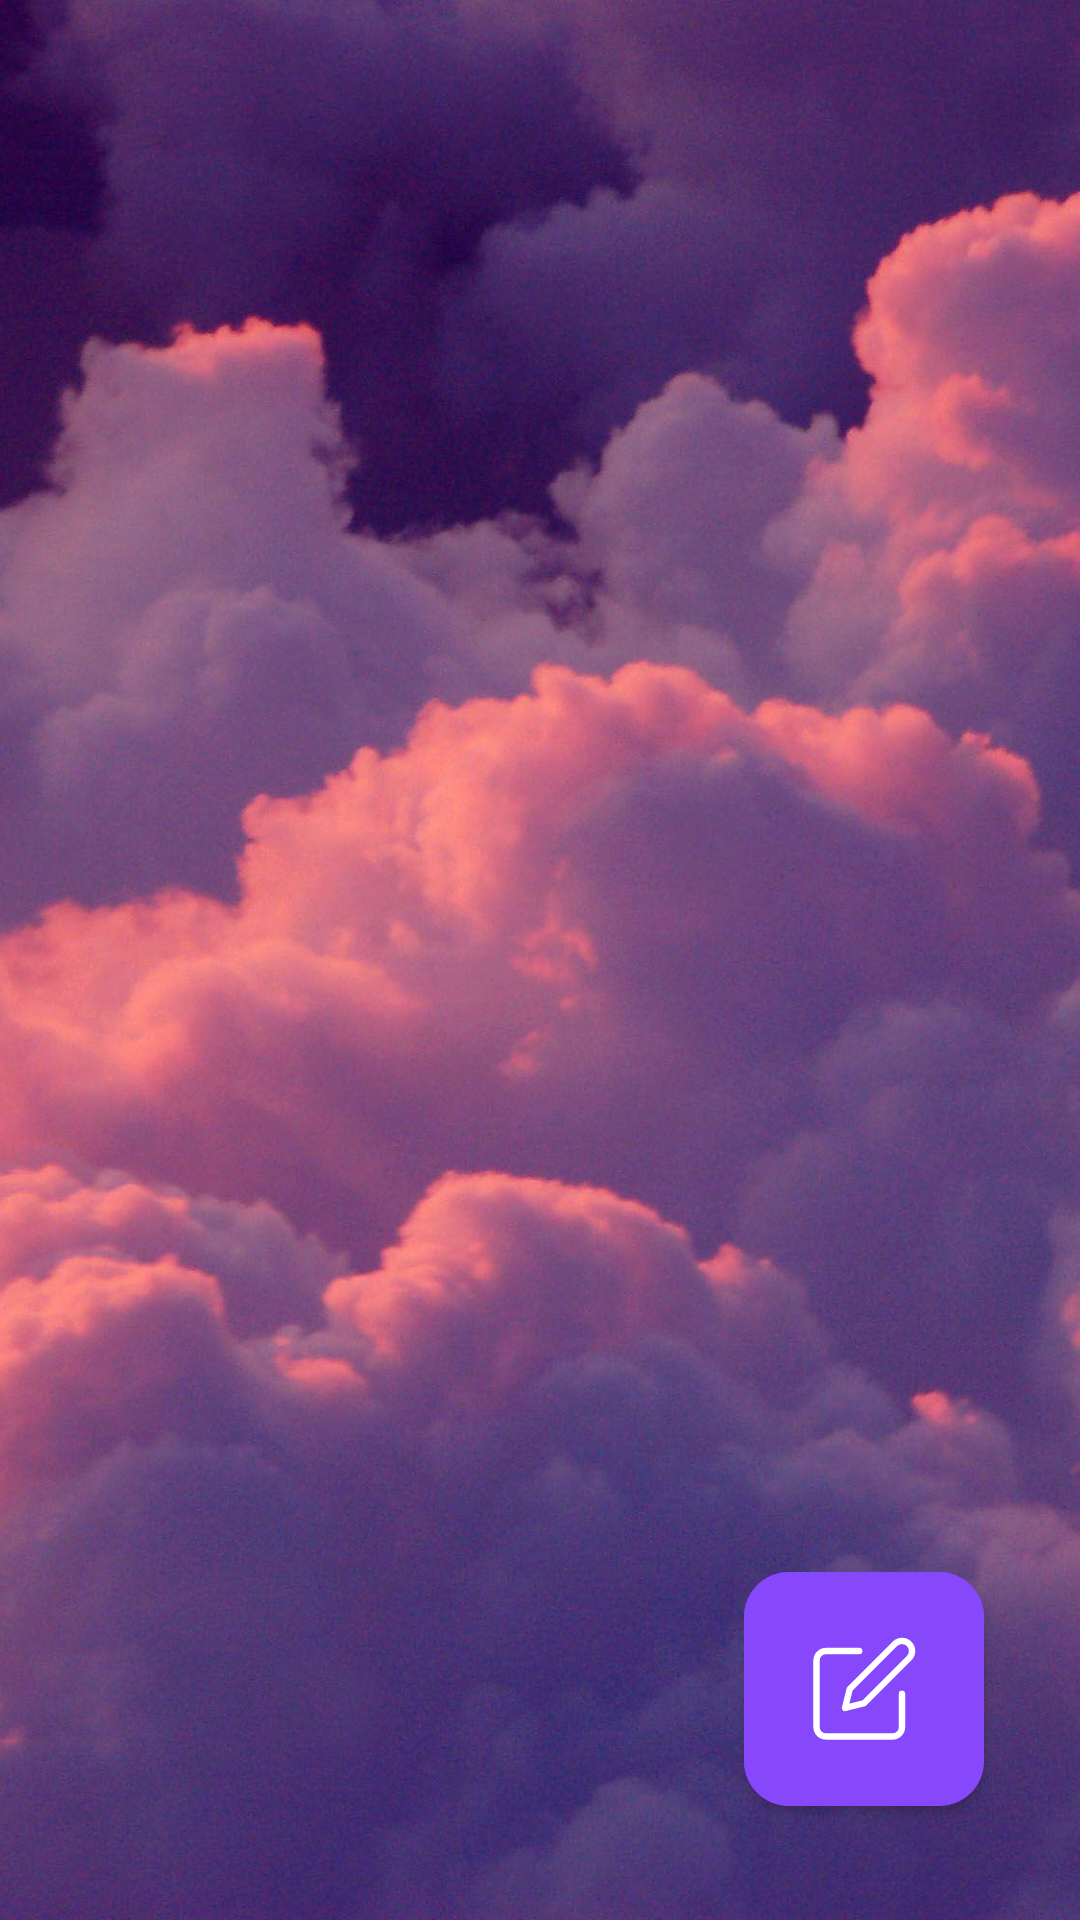

Icon click points for this 1080x1920 phone screenshot, format [x,y]:
edit: [864,1683]
